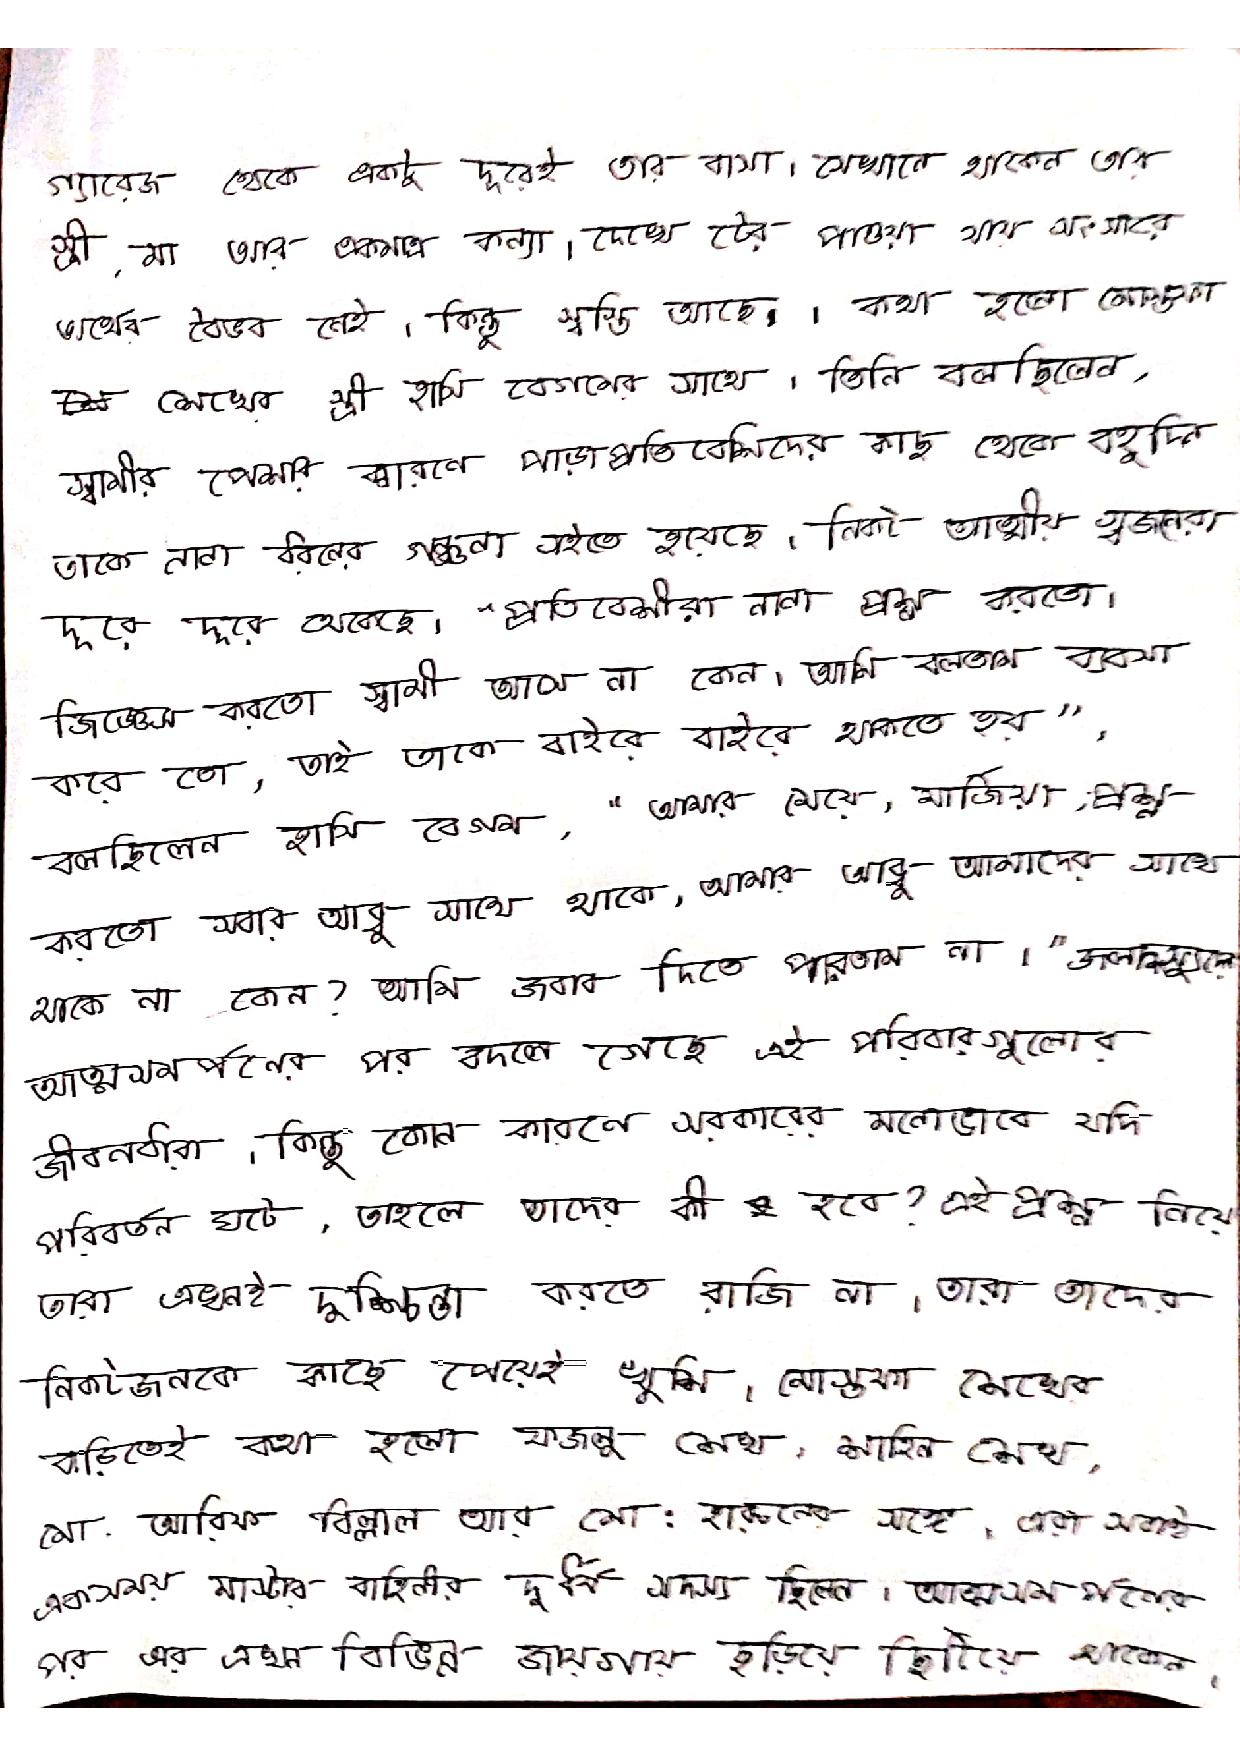line: (31, 847, 1236, 966), (34, 764, 1194, 880), (46, 636, 1190, 746), (28, 701, 1092, 816), (58, 408, 1219, 509), (55, 487, 1239, 582), (25, 1015, 1151, 1110), (31, 1178, 1240, 1266), (55, 336, 1149, 427), (32, 1098, 1155, 1186), (34, 937, 1070, 1027), (48, 570, 1121, 656), (38, 1260, 1221, 1334), (24, 1557, 1206, 1631), (35, 1624, 1227, 1694), (51, 278, 1227, 348), (39, 1488, 1219, 1557), (21, 1343, 1104, 1416), (50, 216, 1184, 280), (50, 144, 1172, 207), (42, 1421, 1106, 1487)
